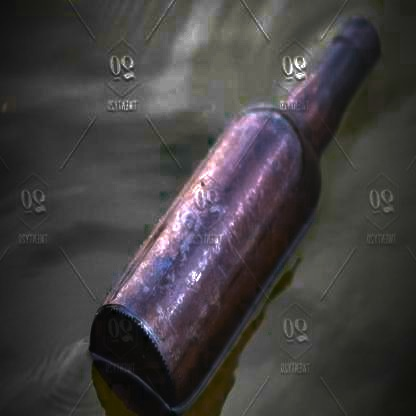gbottle: (90, 21, 382, 409)
